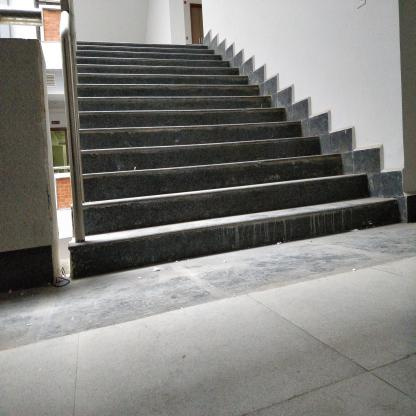stairs: (90, 43, 209, 273)
